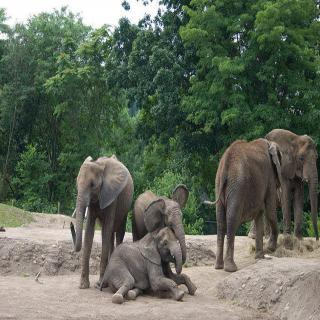Elephant: (202, 133, 284, 279), (68, 149, 137, 292), (105, 226, 193, 307), (130, 179, 192, 265), (277, 125, 320, 247)
